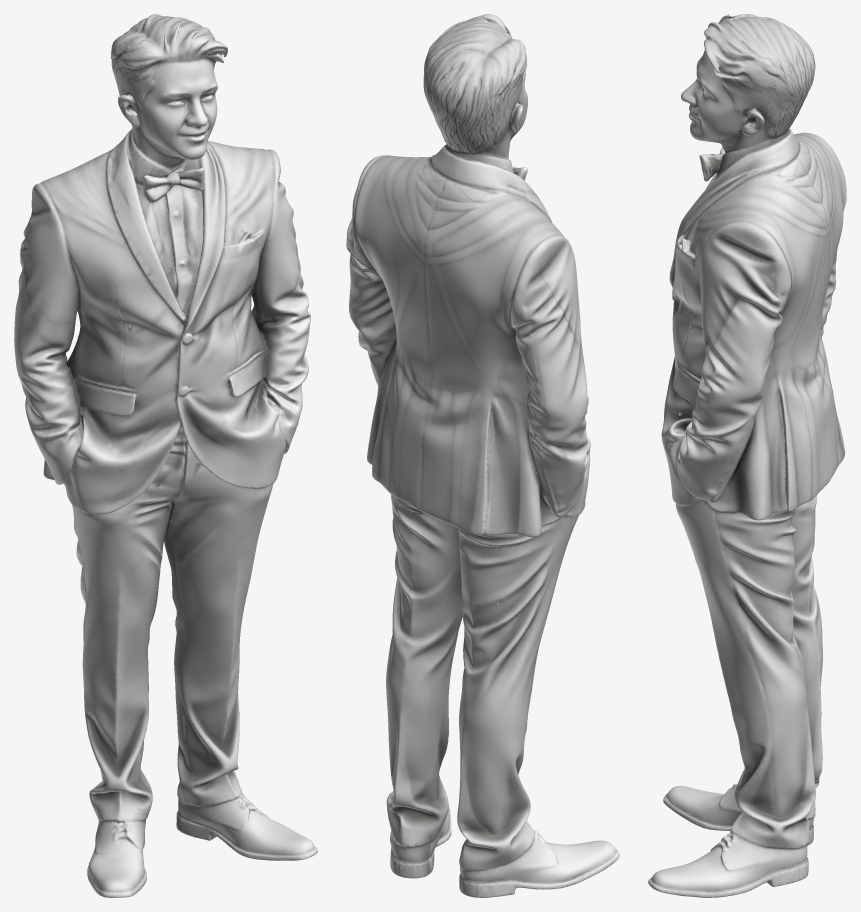
Rendered from HeroModel3.glb.
3 renders of one model, left to right at view 1: azimuth 30°, elevation 25°; view 2: azimuth 150°, elevation 25°; view 3: azimuth 270°, elevation 25°, orthographic.
Size of the model in its own units: 0.6031 by 1.9 by 0.4088.
1 material, 1 textured.
